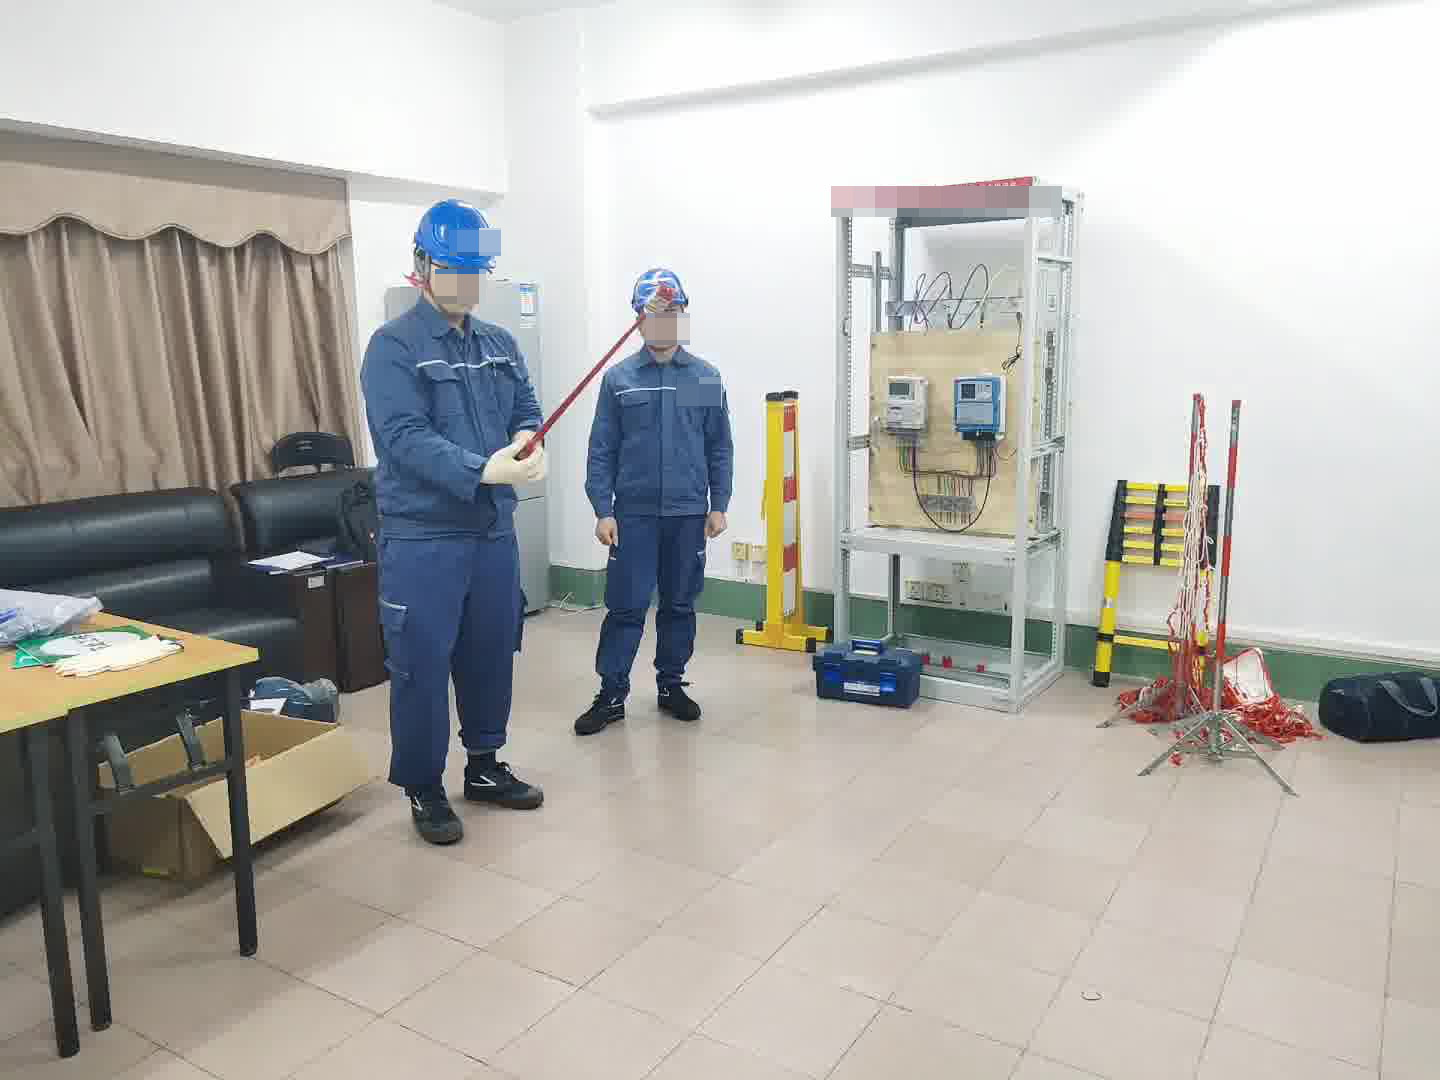downsuit: (379, 542, 527, 791), (595, 526, 707, 697)
halt: (411, 198, 500, 313), (630, 266, 693, 347)
hand: (587, 508, 621, 549), (701, 509, 728, 539)
inear: (408, 242, 448, 303)
person: (362, 199, 549, 831), (576, 264, 739, 728)
testrod: (510, 280, 675, 479)
upsuit: (361, 301, 541, 523), (591, 345, 734, 515)
wglove: (480, 422, 560, 491)
